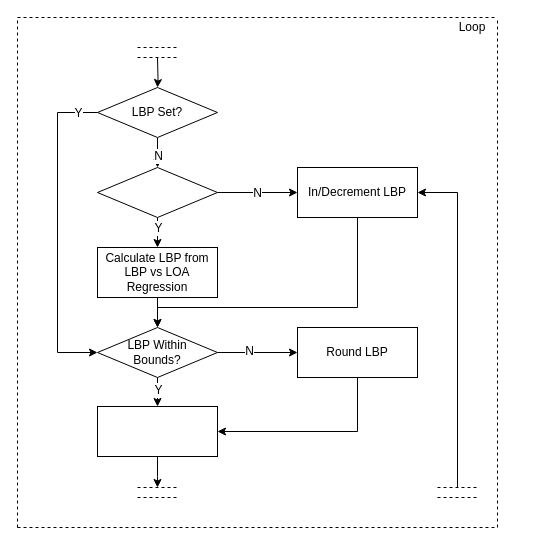
This 535x546 diagram has some shape labels left out. The shapes that lost their labels are listed below. From the top down, each one's centre as x and y in pixels, then its label:
point 157,192: LOA Set?
point 157,431: Next Calculation
